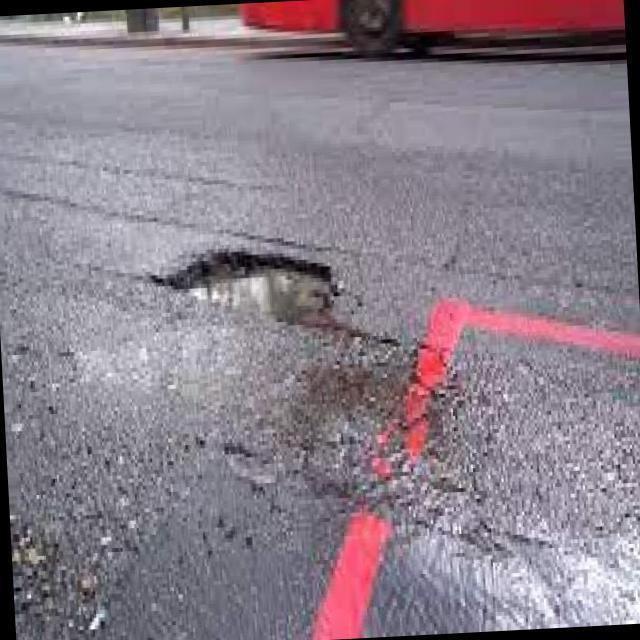pothole: (158, 231, 360, 333)
